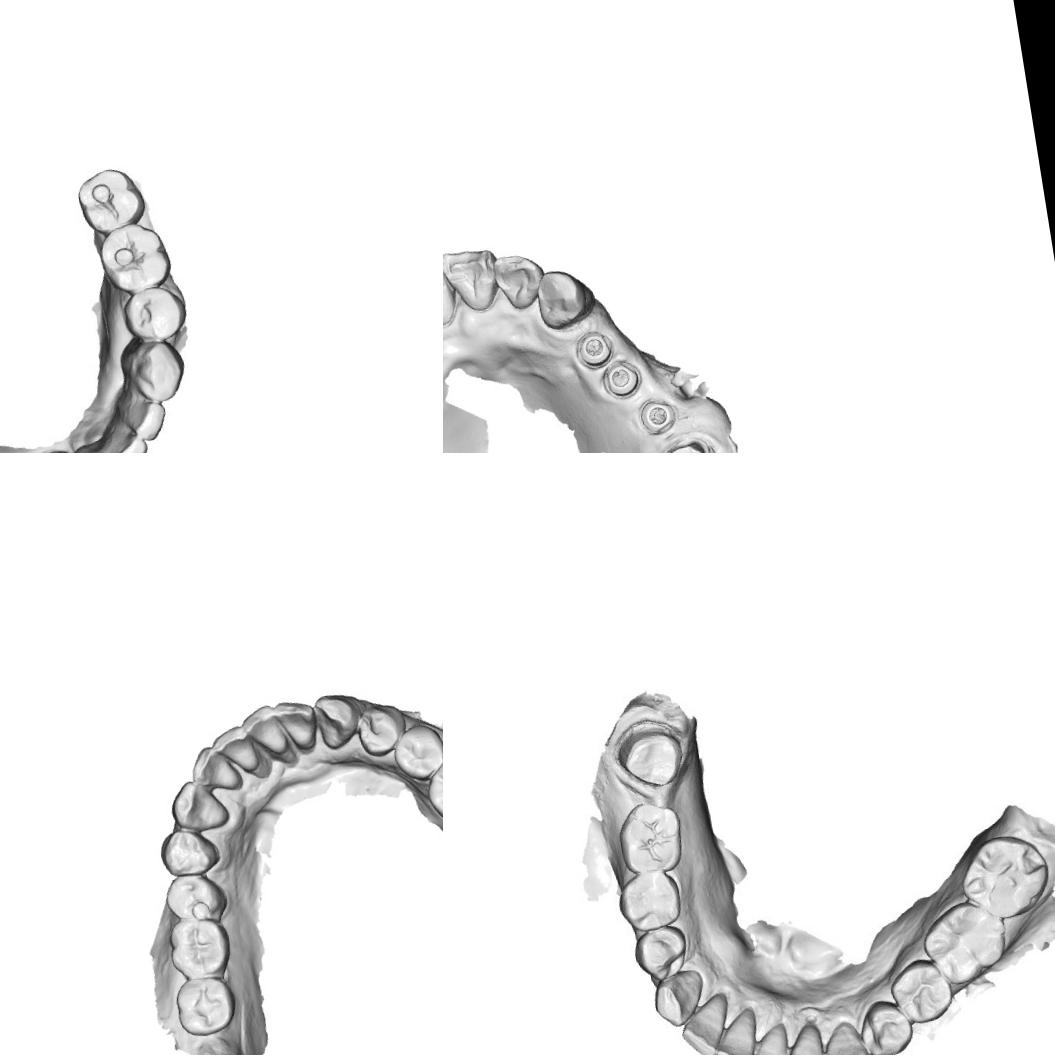canine: (117, 332, 193, 407), (532, 264, 600, 334), (644, 965, 708, 1034), (166, 774, 232, 836), (310, 689, 365, 752), (819, 1019, 870, 1055)
crown: (614, 719, 691, 794), (642, 434, 719, 453)
implant: (572, 327, 617, 371), (600, 358, 644, 400), (637, 395, 679, 437)
incisor: (443, 244, 504, 317), (489, 249, 550, 314), (270, 693, 323, 755), (186, 742, 244, 798), (208, 720, 262, 779), (239, 701, 290, 762), (678, 1000, 730, 1055), (126, 392, 174, 441), (711, 1016, 763, 1055), (780, 1019, 826, 1055), (742, 1026, 797, 1055), (443, 252, 461, 332), (106, 422, 149, 453), (79, 436, 123, 453)
molar: (957, 826, 1055, 921), (918, 897, 1010, 992), (611, 798, 690, 880), (96, 218, 176, 296), (68, 164, 146, 237), (162, 914, 234, 985), (171, 974, 239, 1040), (419, 743, 443, 841)
premolar: (886, 956, 958, 1032), (118, 284, 188, 346), (618, 868, 684, 930), (161, 868, 230, 926), (155, 823, 224, 879), (388, 720, 443, 786), (350, 698, 410, 758), (855, 996, 915, 1055), (634, 924, 693, 981)
